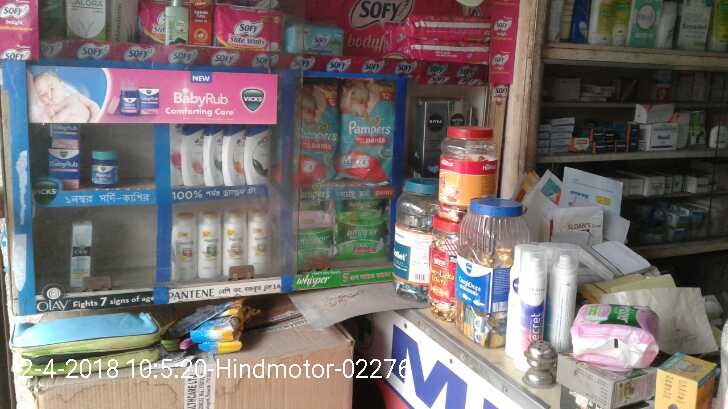vicks: (48, 119, 82, 188), (92, 150, 121, 188)
